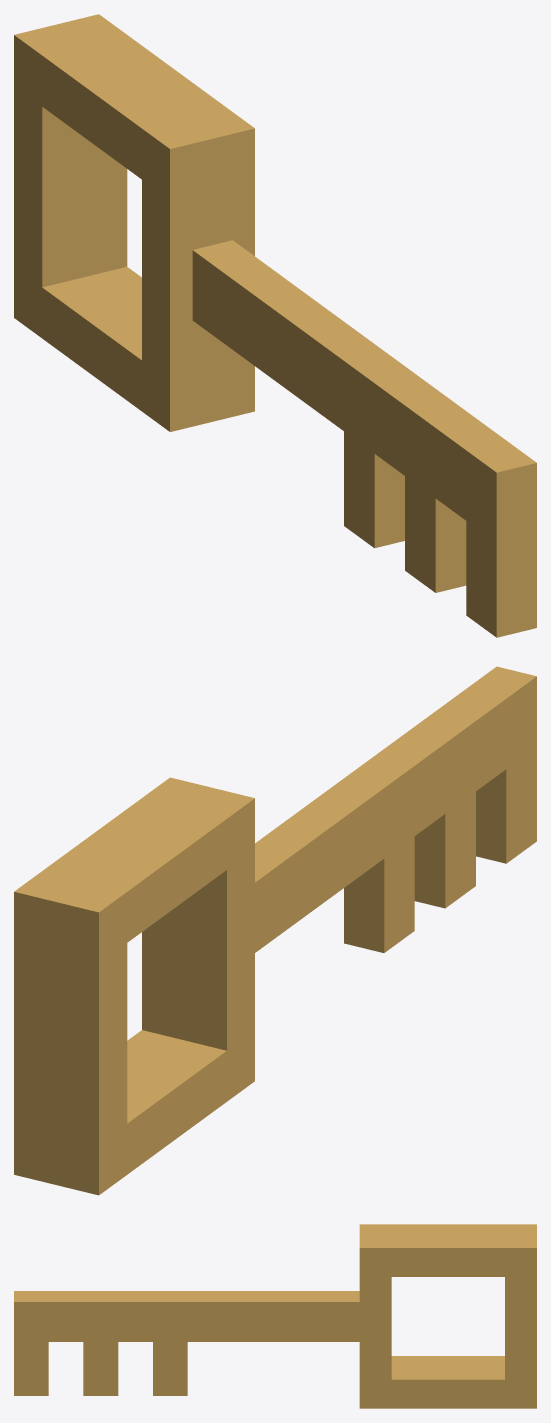
File: key.fbx
The picture shows the model from 3 angles, top to bottom: view 1: azimuth 30°, elevation 25°; view 2: azimuth 150°, elevation 25°; view 3: azimuth 270°, elevation 25°; orthographic projection. The views are drawn at different scales.
Parts seen in each view (by area): view 1: Cube; view 2: Cube; view 3: Cube.
Part boxes in pixels (x1,y1,x2,y2): Cube: (14, 14, 536, 637); Cube: (14, 666, 536, 1195); Cube: (14, 1224, 536, 1408).
Bounding box in the file's own units: 0.00521 × 0.0166 × 0.0489.
